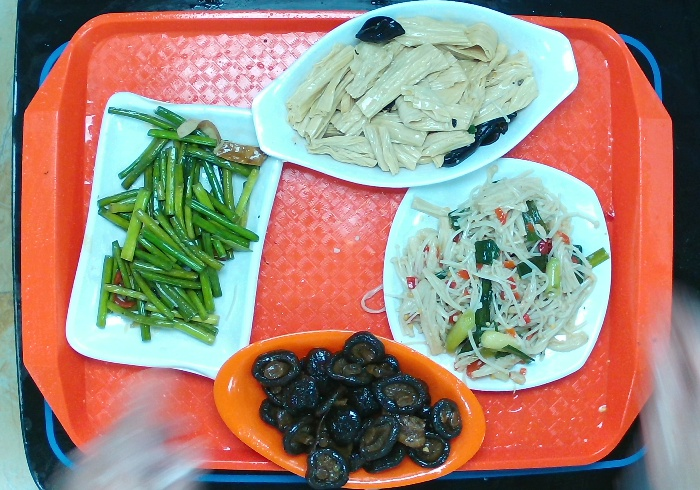RJxy-Ju_Huang_Tuo_Yuan: (212, 326, 486, 490)
RJxy-Si_Fang_Ao_Bian_Wan: (67, 93, 289, 381)
RJxy-Si_Fang_Die: (380, 149, 614, 395)
RJxy-Yu_Pan: (245, 1, 585, 189)
